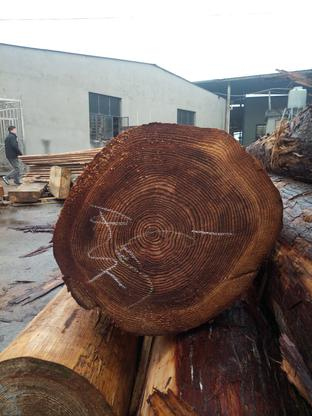mood: (52, 122, 285, 336)
